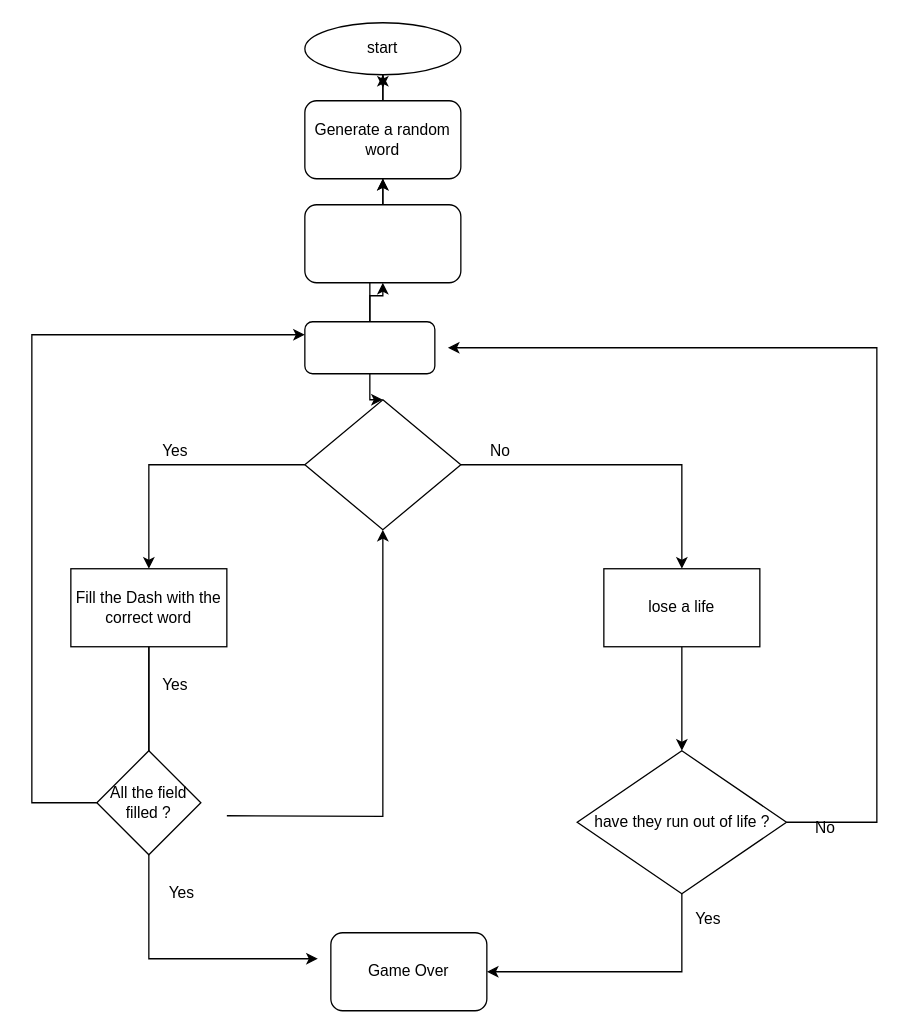
The diagram is 910 pixels wide and 1034 high, and some of its shapes have lost their labels. The box of each missing label's shape, as (x1, y1, x2, y2) in pixels:
Create a blank "Dashes equivalent to the word: (304, 203, 461, 283)
guess the word: (304, 320, 435, 374)
is guess word is correct ?: (304, 398, 461, 530)
